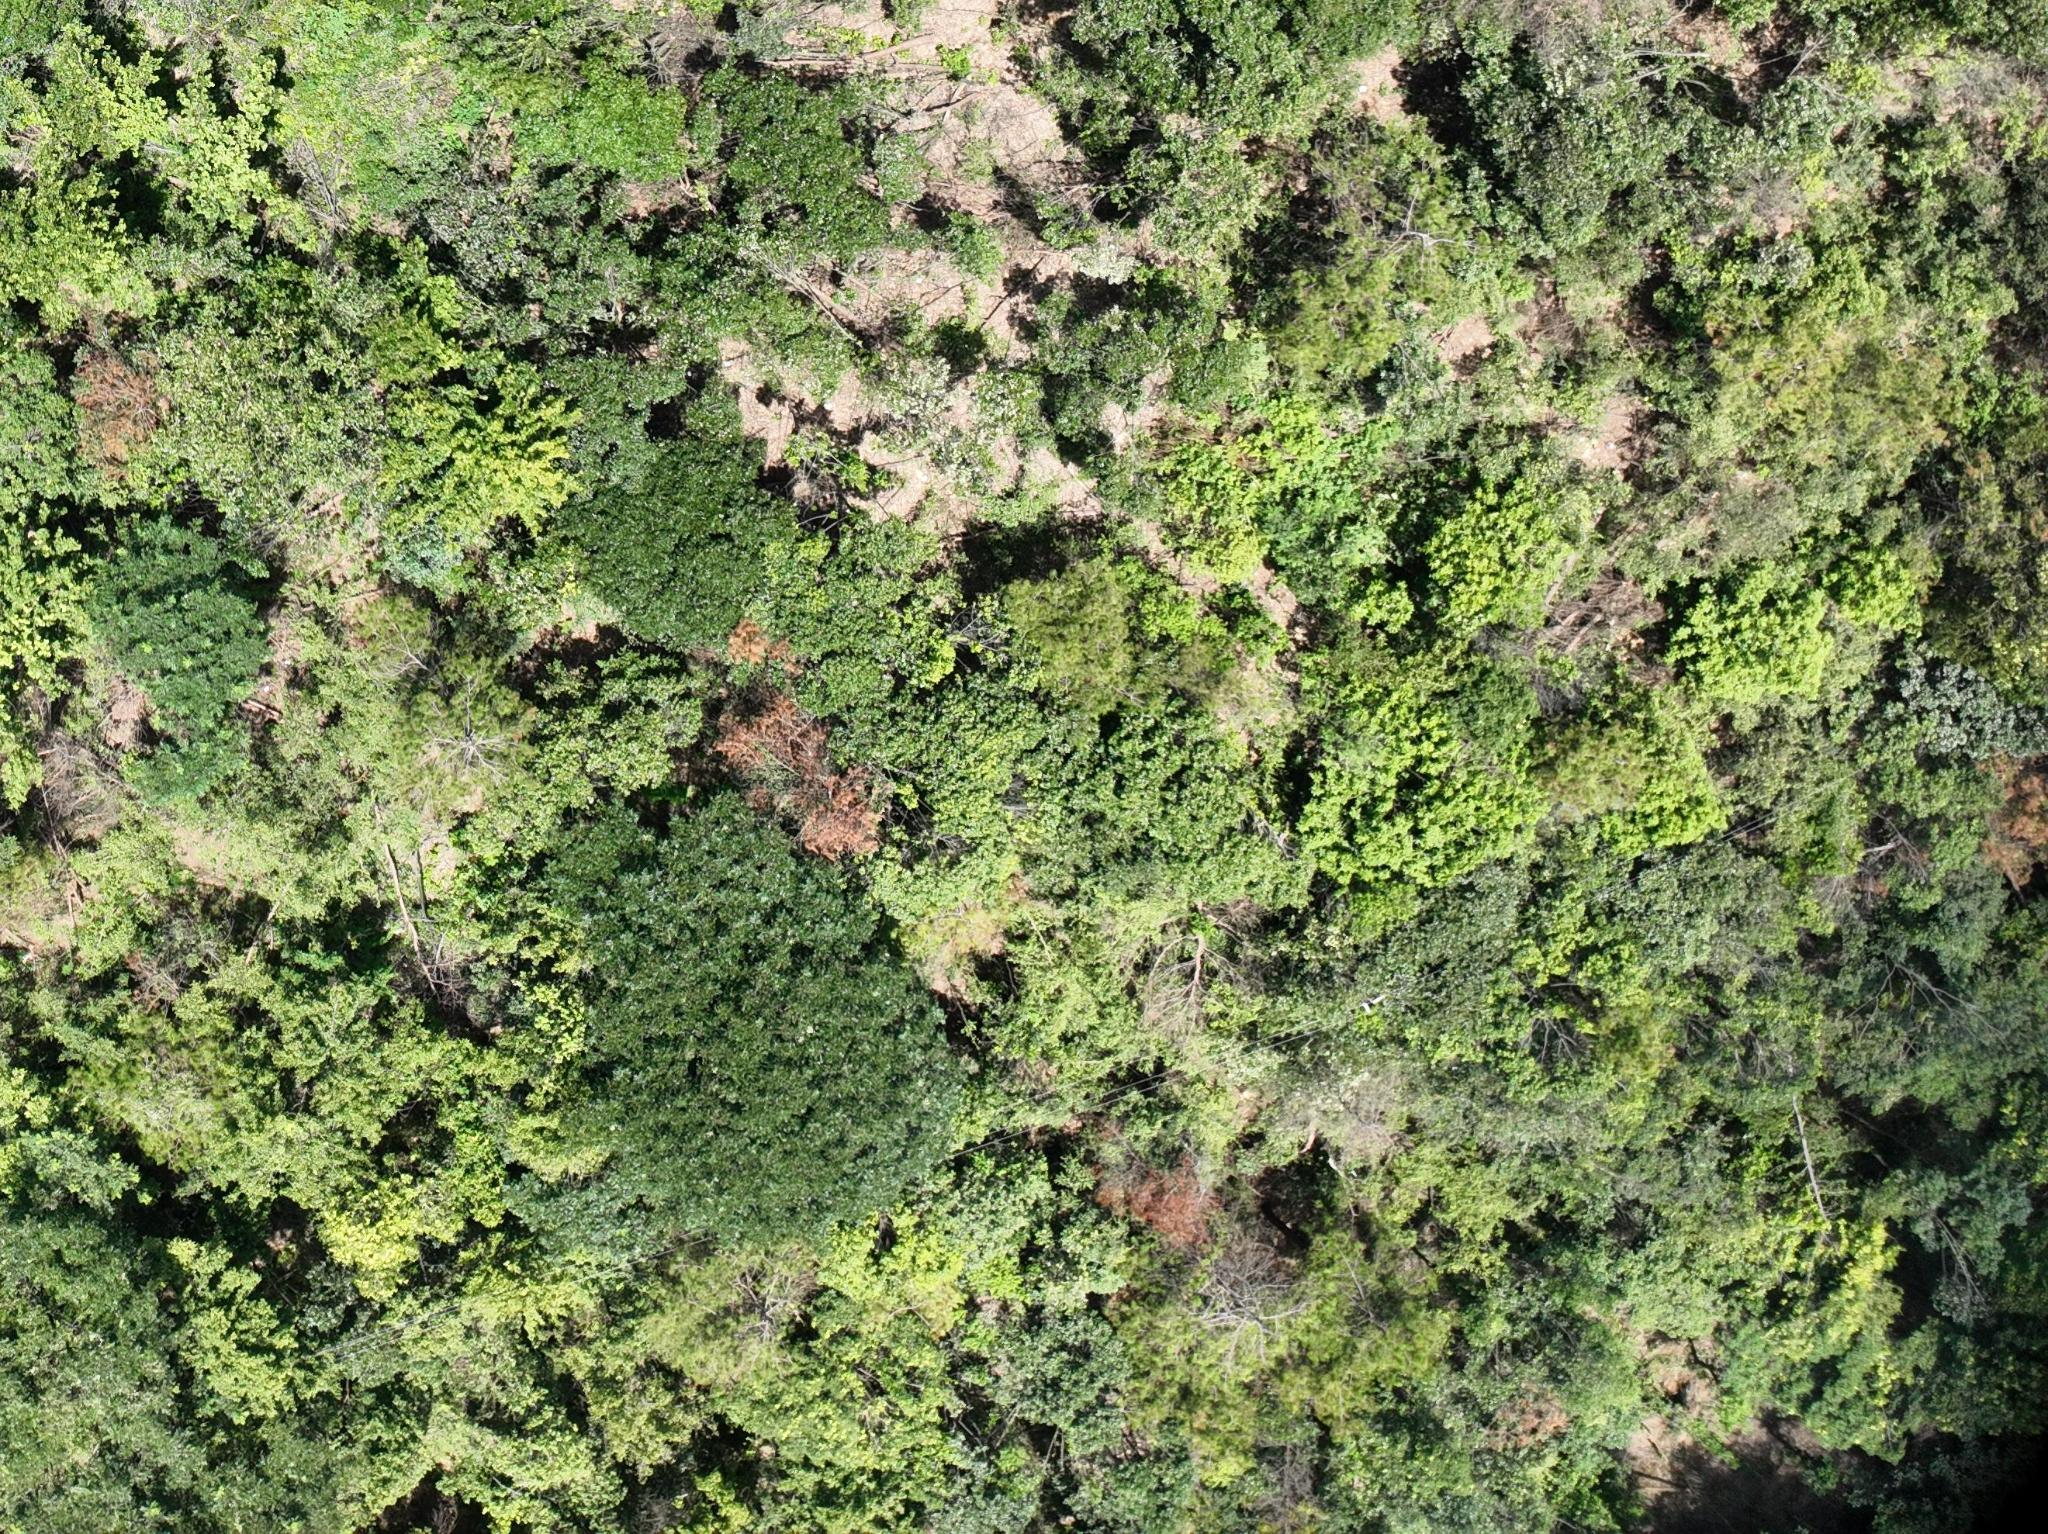heavy: (715, 690, 881, 865), (1097, 1154, 1215, 1249), (77, 345, 163, 462), (1980, 754, 2042, 878)
